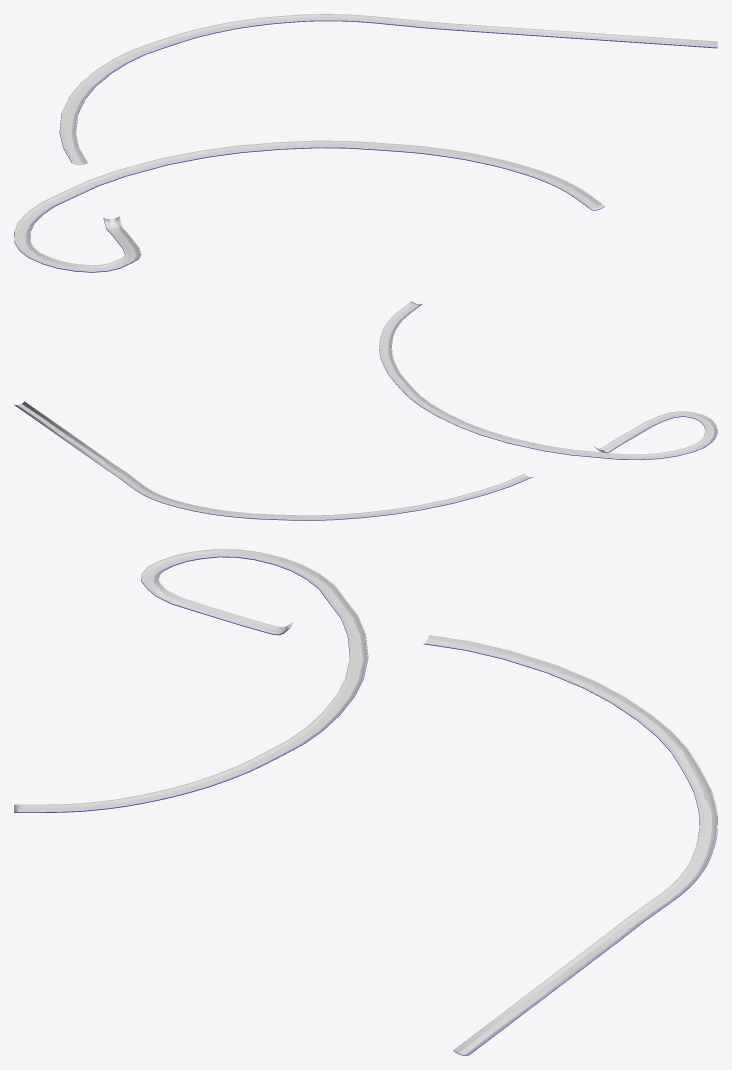
Rendered from BOATWAY.fbx.
3 views of the same model, one above another, from view 1: azimuth 30°, elevation 25°; view 2: azimuth 150°, elevation 25°; view 3: azimuth 270°, elevation 25° (orthographic). The views are drawn at different scales.
Visible parts, largest first — view 1: Way0, Way1, Water0, Water1; view 2: Way0, Way1, Water0, Water1; view 3: Way1, Way0, Water1, Water0.
Boxes of the visible parts, left/top/right/bottom form: Way0: left=14, top=140, right=604, bottom=272; Way1: left=59, top=14, right=717, bottom=165; Water0: left=19, top=144, right=598, bottom=271; Water1: left=65, top=18, right=717, bottom=164; Way0: left=379, top=301, right=717, bottom=460; Way1: left=14, top=401, right=532, bottom=520; Water0: left=383, top=304, right=713, bottom=459; Water1: left=17, top=403, right=530, bottom=520; Way1: left=424, top=635, right=717, bottom=1055; Way0: left=14, top=549, right=368, bottom=812; Water1: left=426, top=638, right=711, bottom=1054; Water0: left=18, top=553, right=362, bottom=811.
Size of the model in its own units: 2387 by 186 by 1632.
